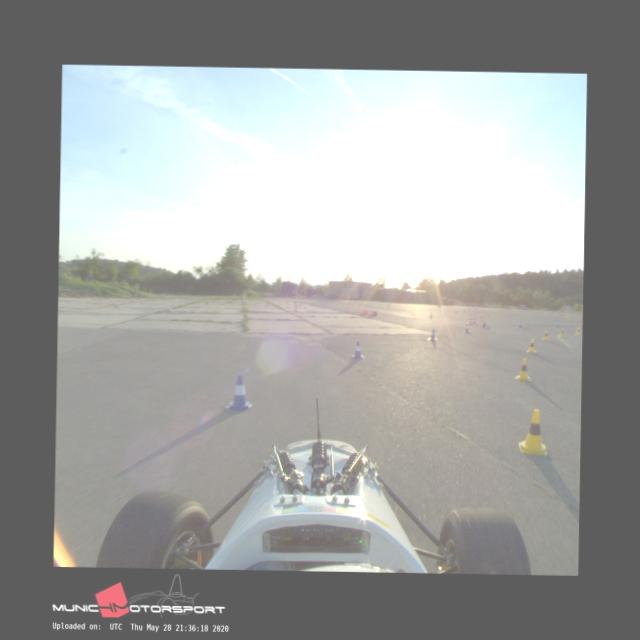blue_cone: (224, 374, 253, 412), (350, 340, 364, 359), (427, 328, 438, 341)
yellow_cone: (518, 408, 547, 454), (514, 357, 530, 381), (526, 338, 536, 354), (542, 330, 550, 340)
